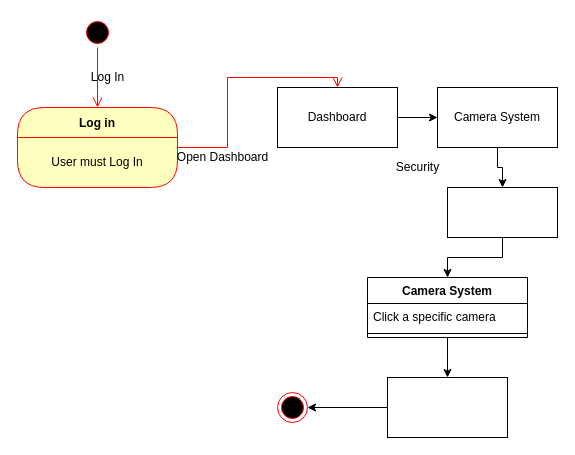
Image size: 575x455. Some labels were removed from this diagram. Here are the shapes that lost their labels. From the top down, the centre of each, then its label:
At point (502, 212): "Show All Cameras".
At point (447, 407): "Show Camera View".
